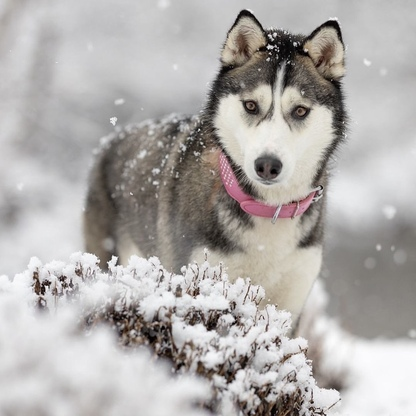husky: (76, 8, 352, 416)
